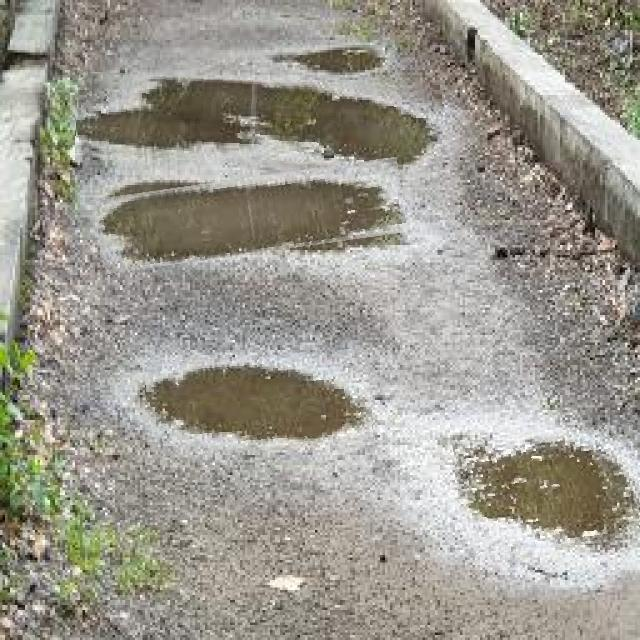puddle: (77, 77, 444, 169), (97, 169, 407, 265), (147, 353, 374, 455), (456, 428, 640, 553)
